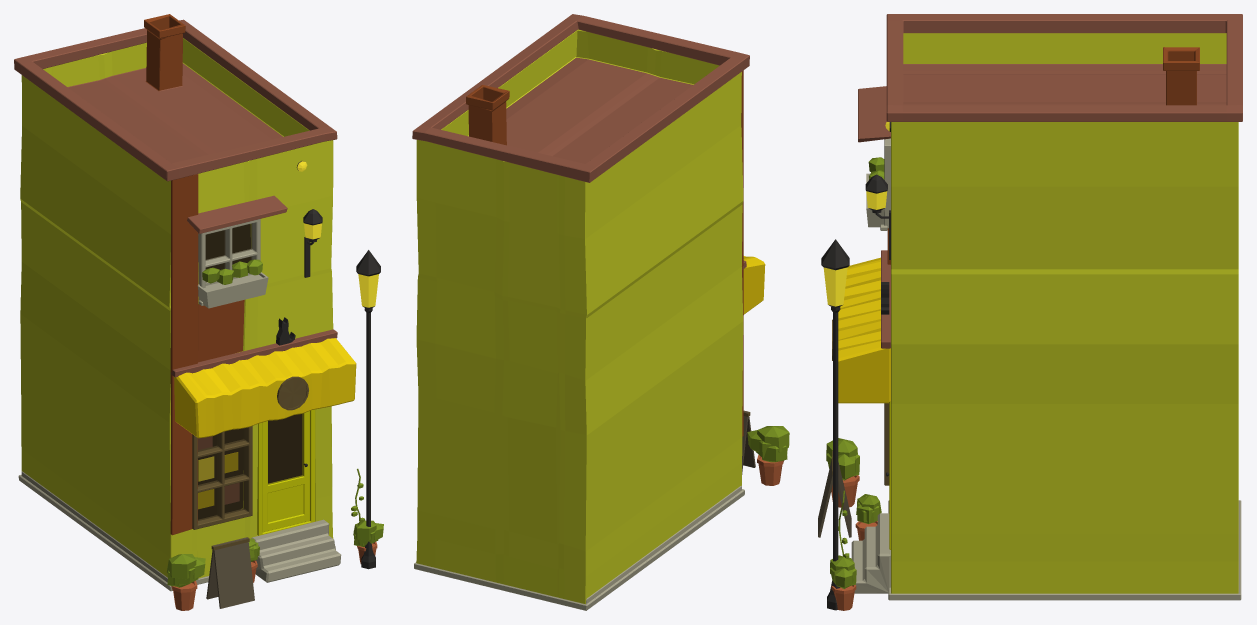
The model's file is test01_shop.glb.
3 views of the same model, side by side, from view 1: azimuth 30°, elevation 25°; view 2: azimuth 150°, elevation 25°; view 3: azimuth 270°, elevation 25° (orthographic). The views are drawn at different scales.
Visible parts, largest first — view 1: test01_shop_facade, test01_shop_awning, test01_shop_coping, test01_shop_brick_pillar, test01_shop_door, test01_shop_steps, test01_shop_shop_window, test01_shop_shop_window_glass, test01_shop_chalkboard, test01_shop_window_planter, test01_shop_street_lamp, test01_shop_door_glass (+10 smaller); view 2: test01_shop_facade, test01_shop_coping, test01_shop_foundation, test01_shop_pot_left, test01_shop_awning, test01_shop_brick_pillar, test01_shop_chalkboard; view 3: test01_shop_facade, test01_shop_coping, test01_shop_awning, test01_shop_foundation, test01_shop_street_lamp, test01_shop_steps, test01_shop_upper_canopy, test01_shop_pot_left, test01_shop_pot_right, test01_shop_chalkboard, test01_shop_wall_lamp, test01_shop_pot_door (+2 smaller).
Part boxes in pixels (box(x1,y1,x2,y2)): test01_shop_facade: box(20, 14, 333, 578); test01_shop_awning: box(174, 338, 356, 438); test01_shop_coping: box(14, 19, 337, 181); test01_shop_brick_pillar: box(170, 174, 198, 535); test01_shop_door: box(257, 409, 315, 535); test01_shop_steps: box(251, 519, 341, 582); test01_shop_shop_window: box(192, 426, 252, 529); test01_shop_shop_window_glass: box(198, 428, 245, 520); test01_shop_chalkboard: box(206, 537, 254, 608); test01_shop_window_planter: box(197, 259, 268, 308); test01_shop_street_lamp: box(356, 250, 380, 569); test01_shop_door_glass: box(268, 413, 303, 484); test01_shop_facade: box(416, 29, 743, 603); test01_shop_coping: box(412, 14, 749, 182); test01_shop_foundation: box(414, 485, 744, 610); test01_shop_pot_left: box(747, 426, 789, 485); test01_shop_awning: box(743, 256, 765, 314); test01_shop_brick_pillar: box(741, 70, 743, 436); test01_shop_chalkboard: box(742, 410, 755, 474); test01_shop_facade: box(891, 33, 1238, 593); test01_shop_coping: box(886, 14, 1242, 121); test01_shop_awning: box(838, 257, 890, 403); test01_shop_foundation: box(888, 500, 1241, 600); test01_shop_street_lamp: box(821, 239, 849, 610); test01_shop_steps: box(851, 513, 890, 593); test01_shop_upper_canopy: box(858, 86, 890, 142); test01_shop_pot_left: box(826, 438, 859, 507); test01_shop_pot_right: box(830, 555, 856, 610); test01_shop_chalkboard: box(818, 451, 851, 537); test01_shop_wall_lamp: box(865, 174, 890, 259); test01_shop_pot_door: box(855, 494, 881, 540).
Size of the model in its own units: 3.55 by 7.02 by 5.19.
Materials: 3 (2 with a texture image).
